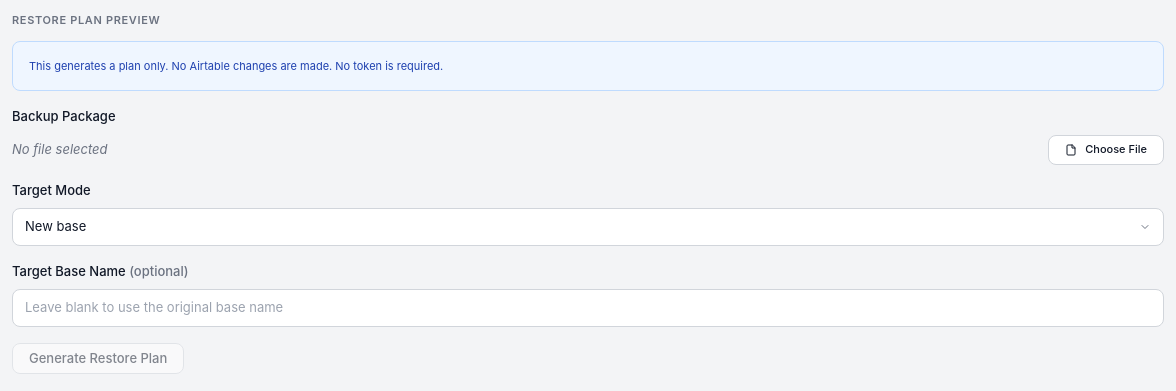
RestoreDryRunPanel result state › enables generate button after file selected
What coordinates should you click on to do the following:
click the button with test id "dry-run-select-file-button"
I would click on:
 (1106, 150)
Its box is 1048,134 -> 1164,164.
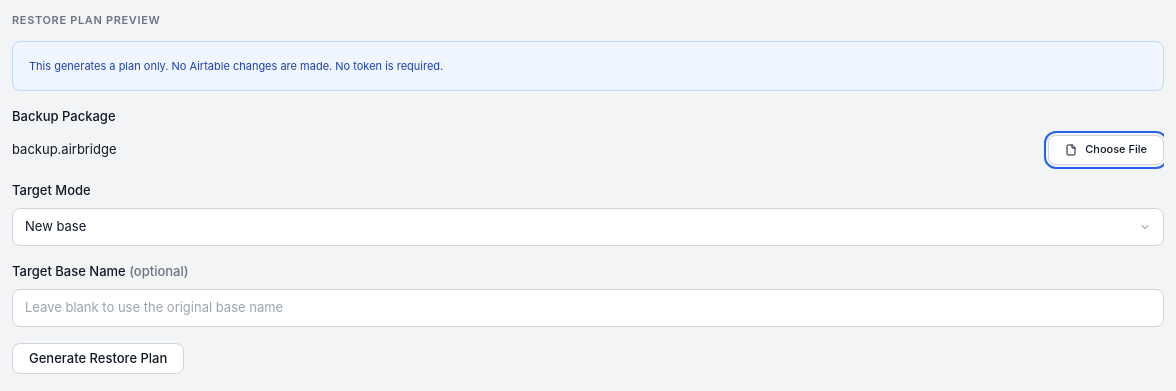
Expected: the button with test id "generate-dry-run-plan-button" is enabled, 12,342 -> 184,374
